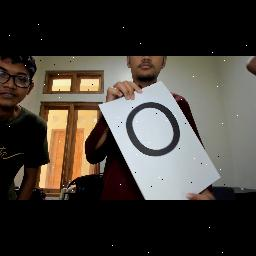o: (126, 98, 184, 162)
